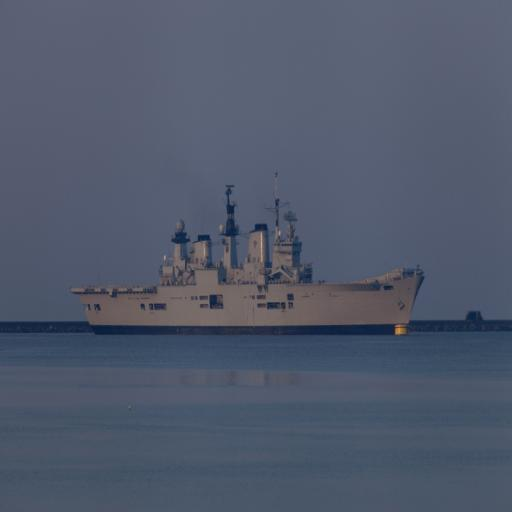Portanaves: (69, 165, 427, 336)
